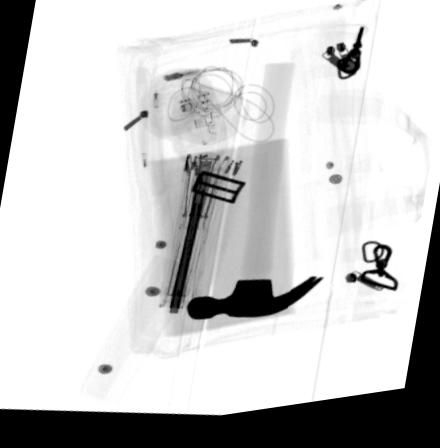Hammer: (185, 70, 323, 326)
